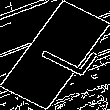L_NW: (19, 29, 91, 81)
